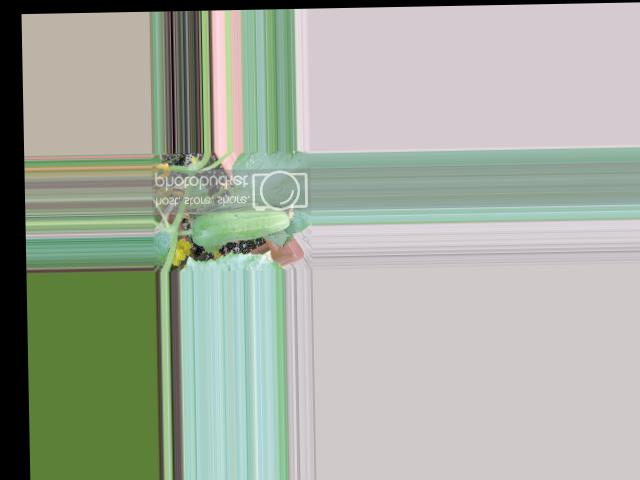cucumber: (192, 204, 291, 246)
